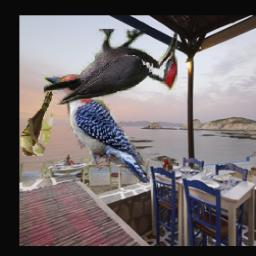Cuckoo: (20, 91, 53, 157)
Woodpecker: (44, 75, 150, 184), (45, 29, 178, 105)
